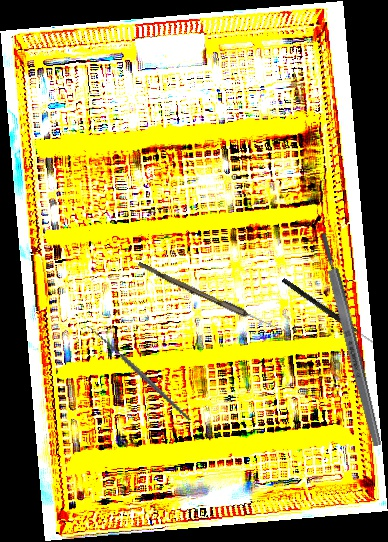Hook Surgical: (81, 305, 191, 443), (280, 277, 376, 345)
Scalpel Handle: (317, 231, 384, 448)
Surgical Spoon: (136, 261, 286, 335)
